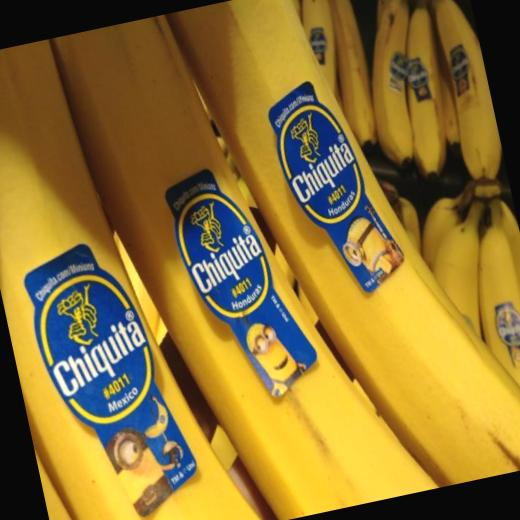Banana: (164, 0, 520, 520)
